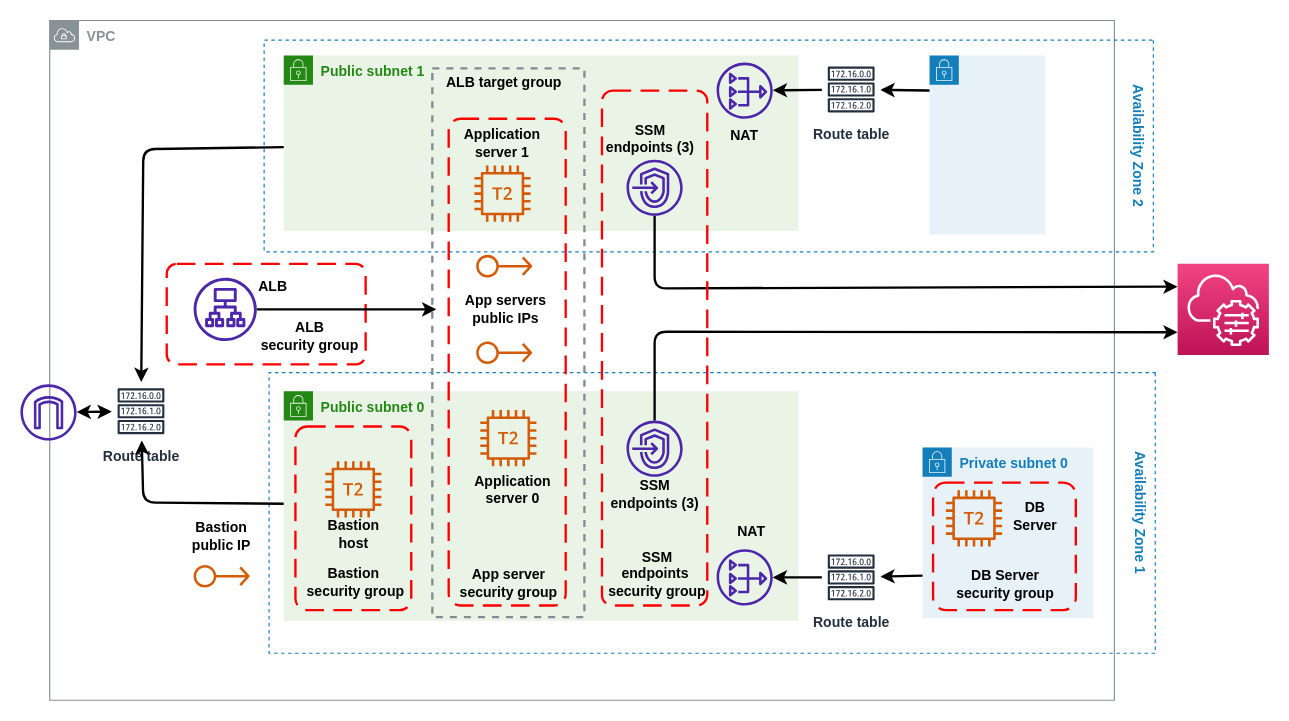
The diagram is 1289 pixels wide and 721 high, and some of its shapes have lost their labels. Here are the shapes that lost their labels. From the top down, the centre of each, then its label:
pixel 986 144: Private subnet 1
pixel 1222 309: SSM
